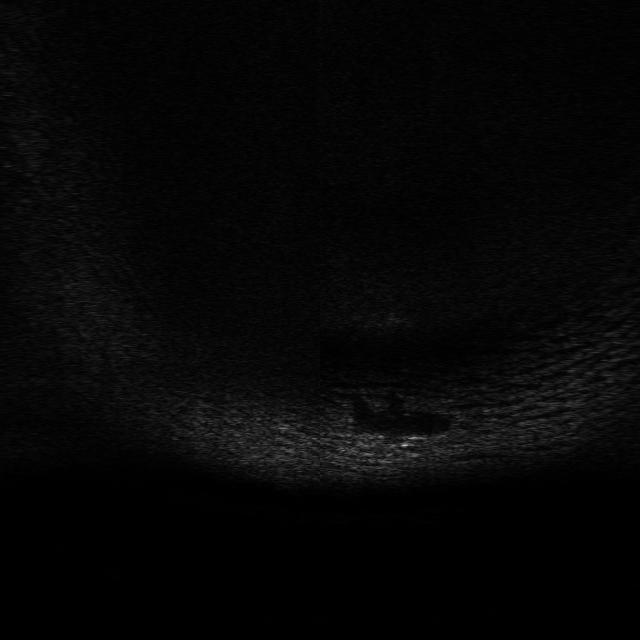plane: (352, 430, 446, 452)
